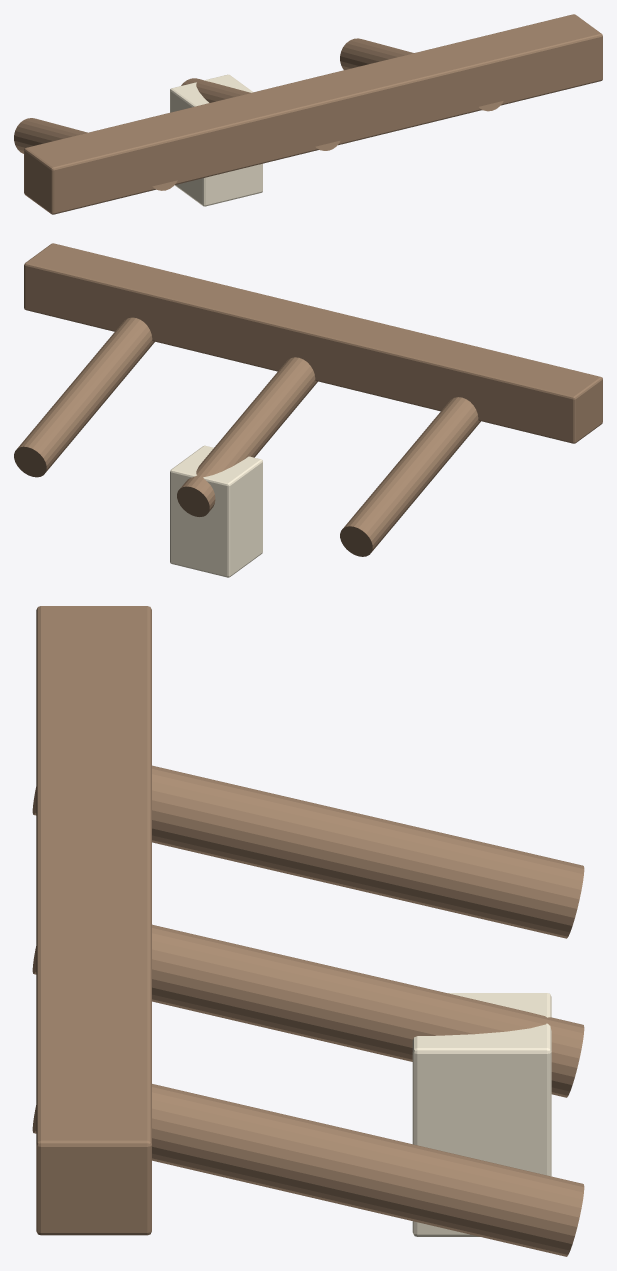
File: hanok-rafter-choma-lantern.glb
The picture shows the model from 3 angles, top to bottom: view 1: azimuth 30°, elevation 25°; view 2: azimuth 150°, elevation 25°; view 3: azimuth 270°, elevation 25°; orthographic projection. The views are drawn at different scales.
Visible parts, largest first — view 1: DoriBeam, ChomaLantern, Rafter_0, Rafter_2, Rafter_1; view 2: DoriBeam, ChomaLantern, Rafter_2, Rafter_0, Rafter_1; view 3: DoriBeam, Rafter_0, Rafter_2, Rafter_1, ChomaLantern.
Boxes of the visible parts, x1,y1,x2,y2 form: DoriBeam: (24,14,602,214); ChomaLantern: (170,74,262,206); Rafter_0: (14,118,177,190); Rafter_2: (340,38,503,111); Rafter_1: (181,78,340,150); DoriBeam: (24,243,602,443); ChomaLantern: (170,445,262,577); Rafter_2: (14,317,154,477); Rafter_0: (340,397,480,556); Rafter_1: (177,357,317,516); DoriBeam: (36,606,151,1235); Rafter_0: (32,765,584,938); Rafter_2: (32,1084,584,1256); Rafter_1: (32,924,584,1097); ChomaLantern: (412,993,551,1236).
Size of the model in its own units: 2.2 by 0.64 by 0.9525.
